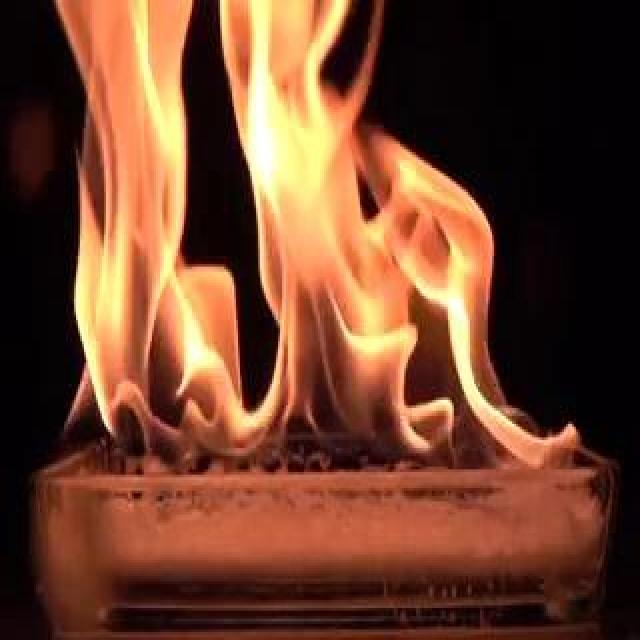Fire: (22, 2, 574, 482)
